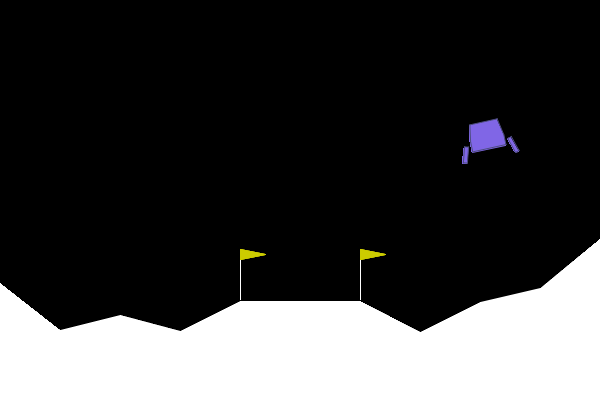lander: (453, 114, 521, 166)
